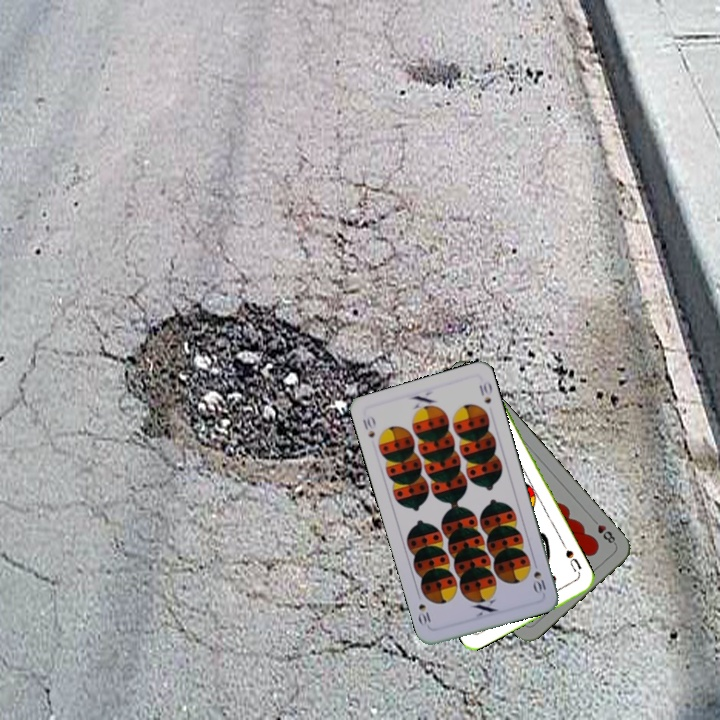H8: (588, 514, 619, 547)
S10: (529, 557, 549, 596), (358, 412, 378, 440)
SU: (561, 546, 584, 579)
